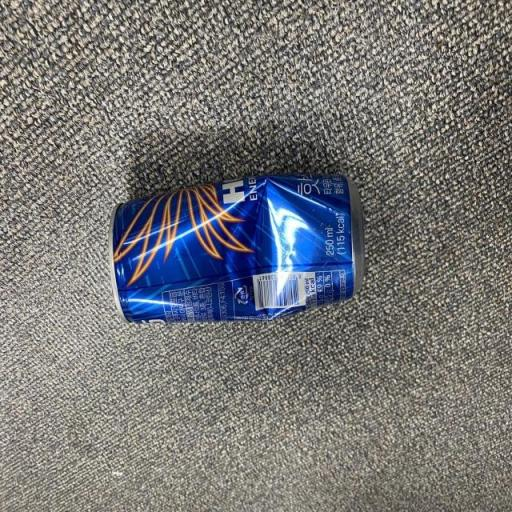metal: (88, 162, 384, 370)
